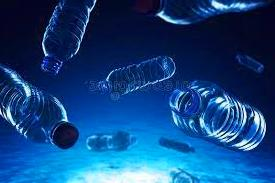Plastic: (162, 70, 271, 156), (35, 1, 97, 89), (83, 53, 184, 105), (79, 124, 140, 156)
